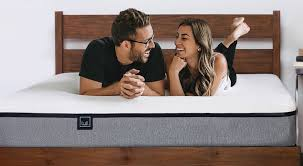bed-matress: (1, 72, 298, 147)
